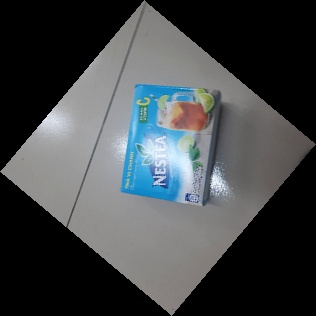Nestea: (117, 84, 223, 206)
